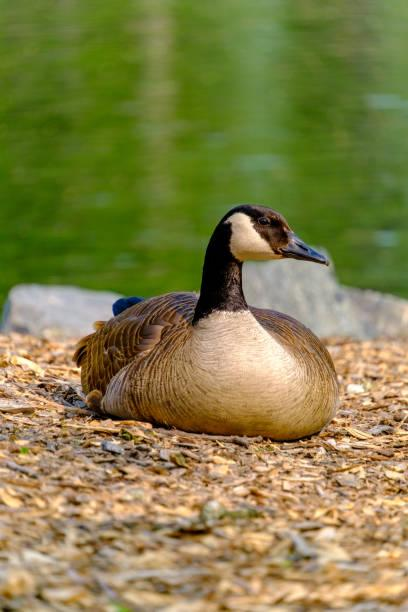Canadian-Goose: (75, 190, 346, 440)
